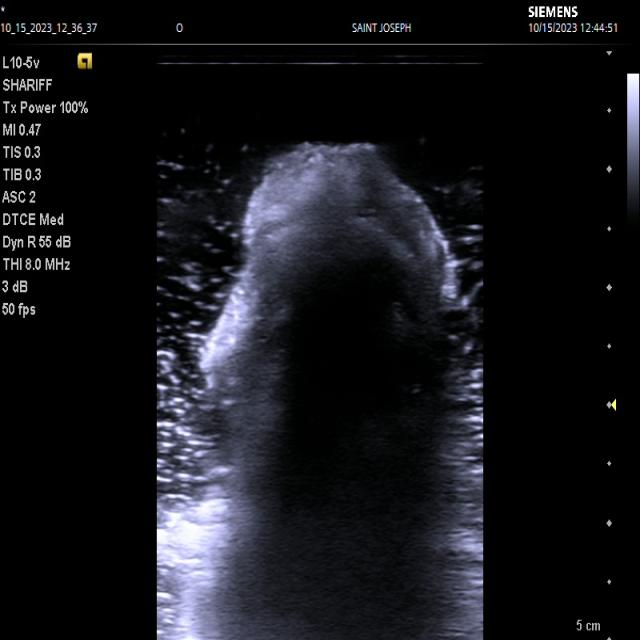tissue: (195, 139, 460, 517)
